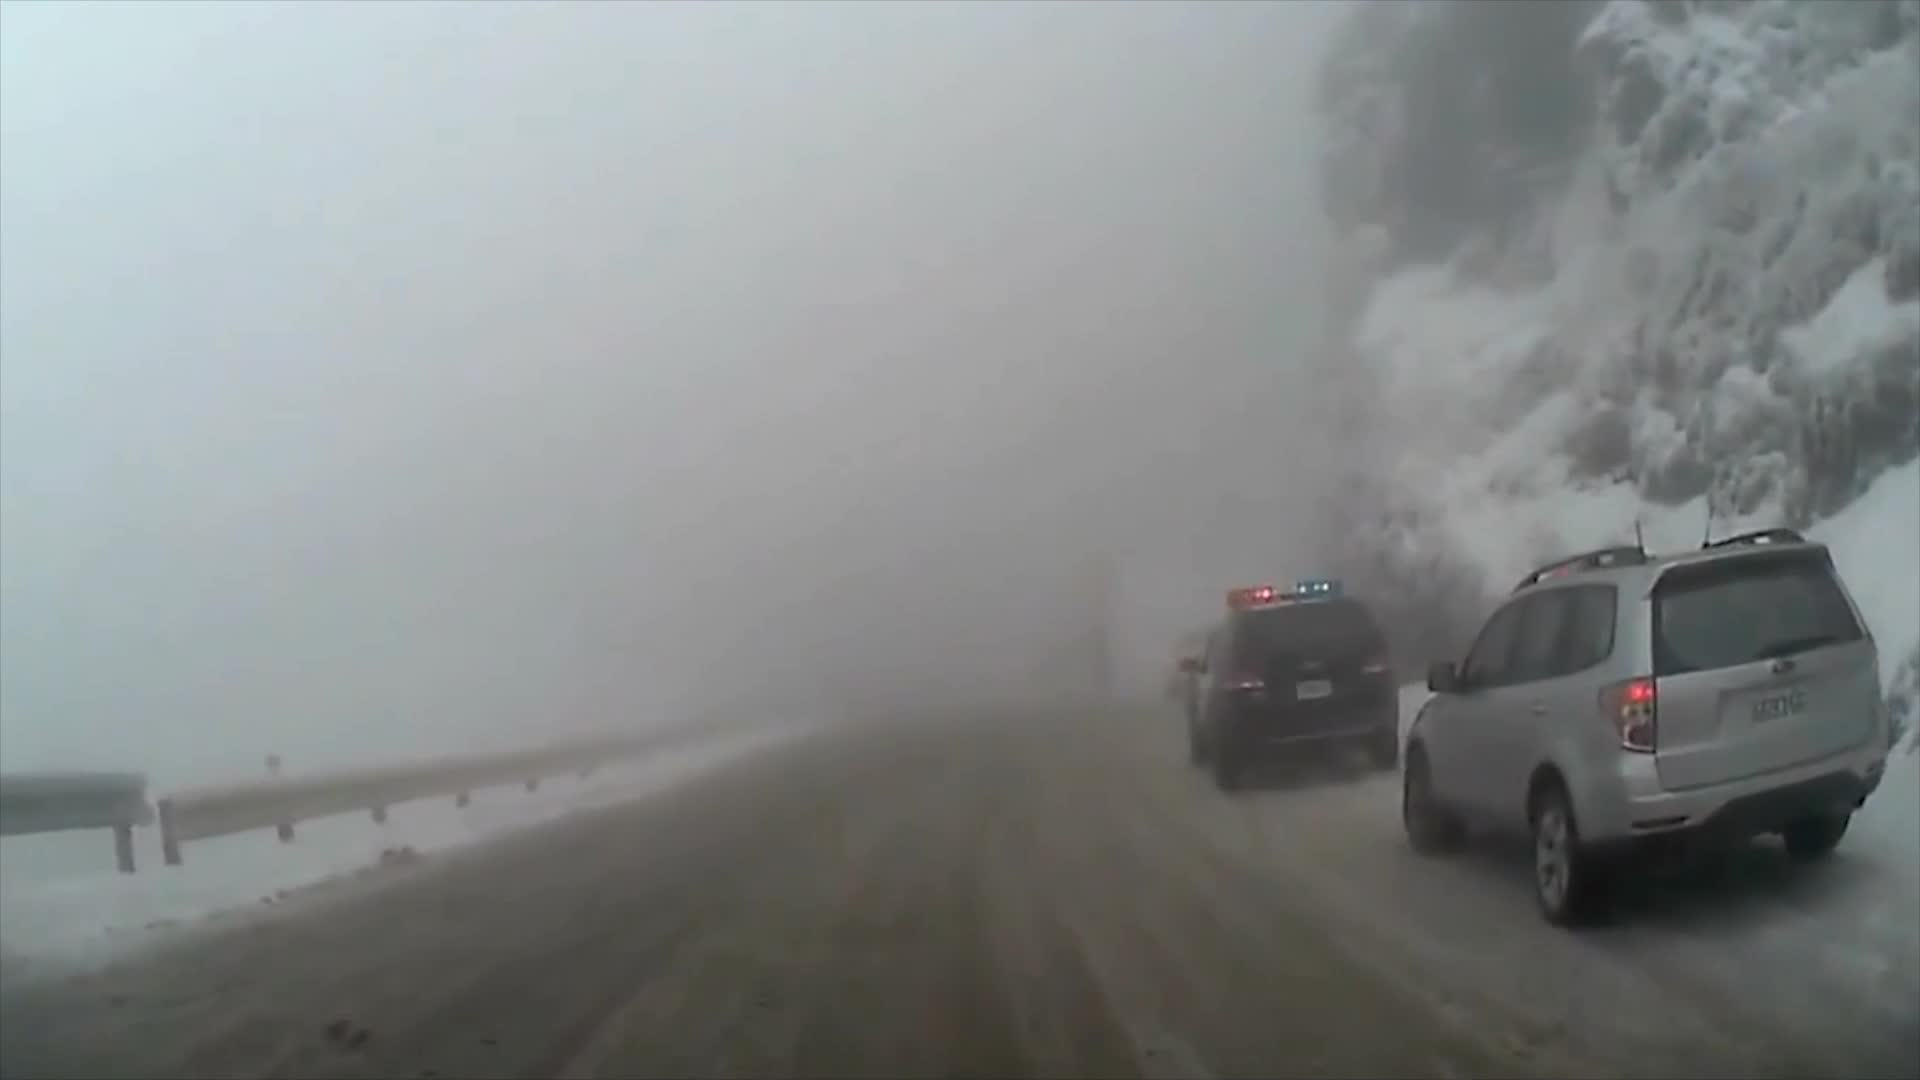vehicle: (1400, 524, 1888, 926), (1174, 579, 1396, 793)
